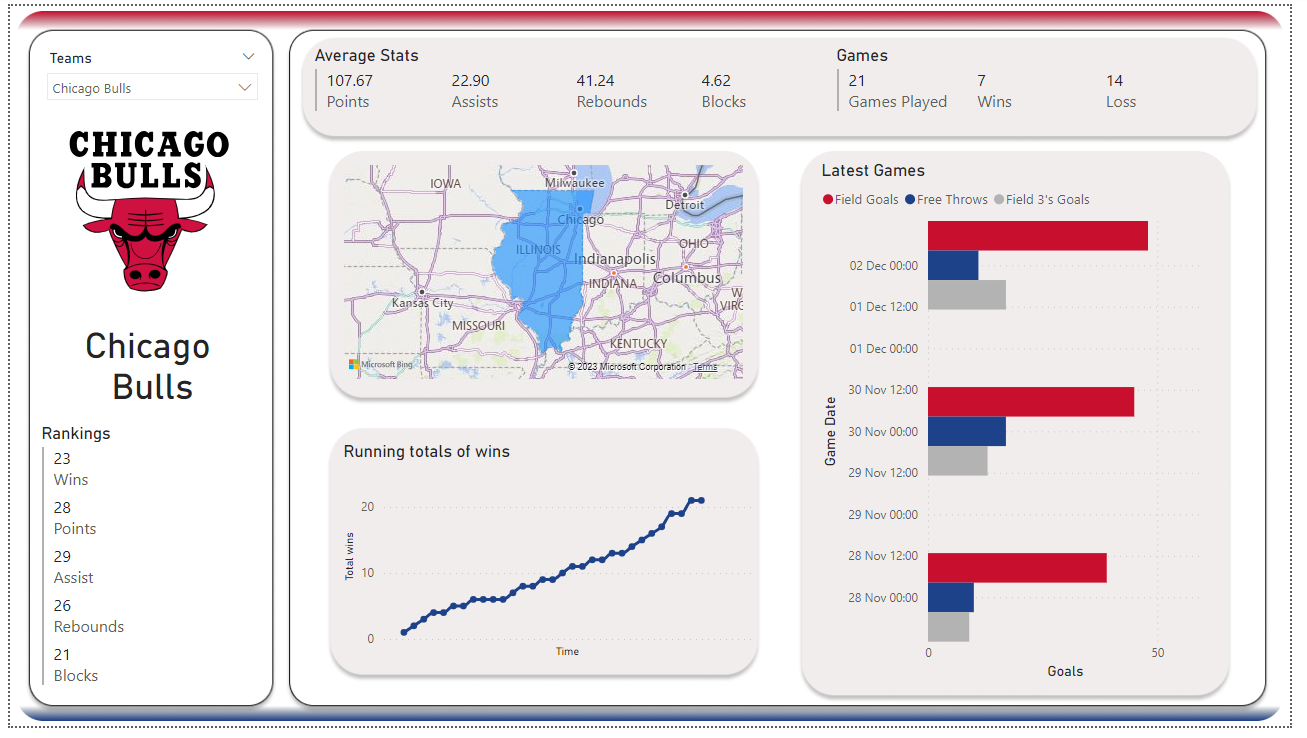

This screenshot's page, from the dashboard's own definition file:
{"tool":"powerbi","page":{"name":"Team stats","canvas":[1280,720],"ordinal":0},"visuals":[{"type":"image","box":[0,0,1280,720],"z":1500},{"type":"multiRowCard","title":"Average Stats","fields":{"Values":["Avg(Games.PTS)","Games.AST","Avg(Games.REB)","Avg(Games.BLK)"]},"box":[300,39,522,77],"z":2000},{"type":"multiRowCard","title":"Games","fields":{"Values":["Sum(Team Facts.GP)","Sum(Team Facts.W)","Sum(Team Facts.L)"]},"box":[822,39,408,77],"z":3000},{"type":"tableEx","fields":{"Values":["Team Facts.IMAGE_URL"]},"box":[27,77,231,235],"z":3500},{"type":"slicer","fields":{"Values":["Team Facts.TEAM_NAME"]},"box":[27,39,231,76],"z":3750},{"type":"lineChart","title":"Running totals of wins","fields":{"Category":["Games.Game Date.Variation.Date Hierarchy.Day"],"Y":["Games.Count of Wins running total in Day"]},"box":[329,435,417,221],"z":4000},{"type":"multiRowCard","title":"Rankings","fields":{"Values":["Team Facts.Wins rank","Team Facts.Points Rank","Team Facts.Assist Rank","Team Facts.Rebounds Rank","Team Facts.Block Rank"]},"box":[27,417,230,268],"z":6000},{"type":"card","fields":{"Values":["Min(Team Facts.Teams)"]},"box":[27,295,231,122],"z":7000},{"type":"clusteredBarChart","title":"Latest Games","fields":{"Y":["Sum(Games.Field Goals Made)","Sum(Games.Free Throws Made)","Sum(Games.3 Field Goals Made)"],"Category":["Games.Game Date"]},"box":[807,154,398,524],"z":8000},{"type":"filledMap","fields":{"Category":["Team Facts.State"]},"box":[329,154,409,224],"z":9000}]}

Visuals, with their boxes in screenshot pixels (x1, y1, x2, y2), scaled from the page's 1280x720 canvas onto the 1307x738 screenshot:
image: bbox=(0, 0, 1306, 737)
"Average Stats" multiRowCard: bbox=(306, 40, 839, 119)
"Games" multiRowCard: bbox=(839, 40, 1256, 119)
tableEx - Team Facts.IMAGE_URL: bbox=(28, 79, 263, 320)
slicer - Team Facts.TEAM_NAME: bbox=(28, 40, 263, 118)
"Running totals of wins" lineChart: bbox=(336, 446, 762, 672)
"Rankings" multiRowCard: bbox=(28, 427, 262, 702)
card - Min(Team Facts.Teams): bbox=(28, 302, 263, 427)
"Latest Games" clusteredBarChart: bbox=(824, 158, 1230, 695)
filledMap - Team Facts.State: bbox=(336, 158, 754, 387)
